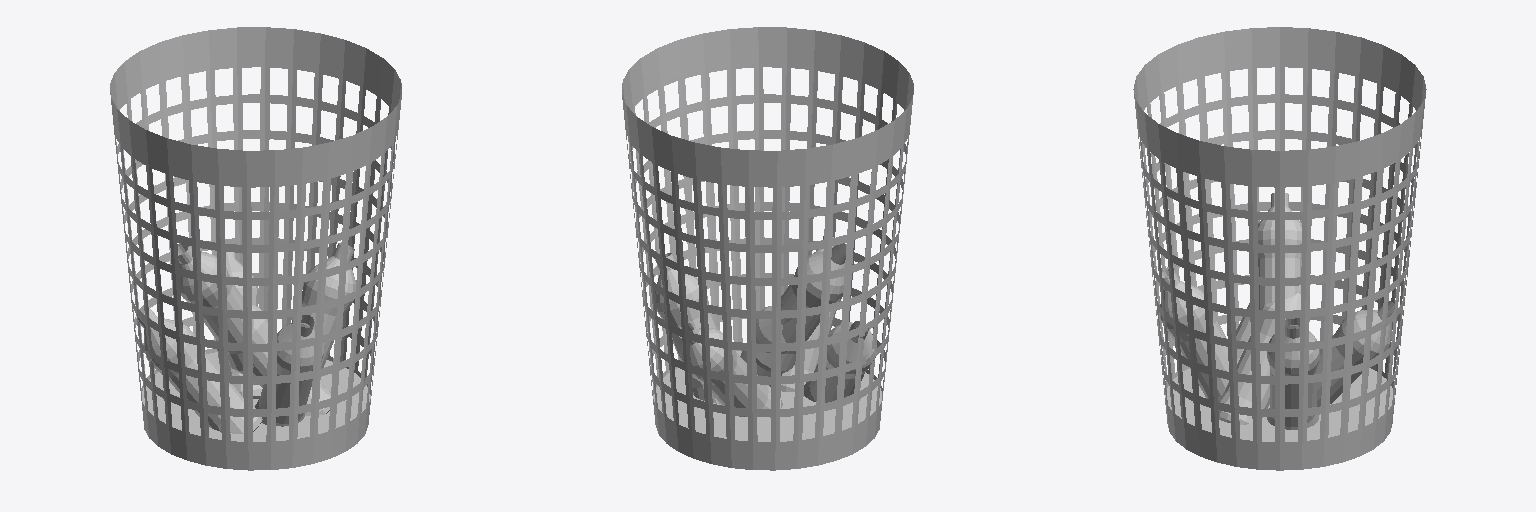
The model's file is DustbinWithCan_000032.obj.
3 views of the same model, side by side, from view 1: azimuth 30°, elevation 25°; view 2: azimuth 150°, elevation 25°; view 3: azimuth 270°, elevation 25° (orthographic).
Visible parts, largest first — view 1: Cylinder, Plane.005, Plane.006, Plane.001, Plane.003, Plane.004, Plane.002; view 2: Cylinder, Plane.006, Plane.002, Plane.005, Plane.003, Plane.001, Plane.004; view 3: Cylinder, Plane.001, Plane.006, Plane.003, Plane.002, Plane.004.
Part boxes in pixels (bbox=[...]): Cylinder: bbox=[110, 27, 401, 470]; Plane.005: bbox=[135, 307, 262, 433]; Plane.006: bbox=[178, 243, 253, 373]; Plane.001: bbox=[255, 315, 323, 426]; Plane.003: bbox=[291, 243, 355, 368]; Plane.004: bbox=[252, 304, 330, 415]; Plane.002: bbox=[216, 252, 262, 398]; Cylinder: bbox=[622, 27, 913, 470]; Plane.006: bbox=[756, 243, 845, 373]; Plane.002: bbox=[679, 323, 782, 416]; Plane.005: bbox=[804, 321, 876, 402]; Plane.003: bbox=[655, 253, 719, 403]; Plane.001: bbox=[770, 236, 842, 391]; Plane.004: bbox=[740, 304, 791, 385]; Cylinder: bbox=[1133, 27, 1426, 470]; Plane.001: bbox=[1160, 269, 1238, 399]; Plane.006: bbox=[1258, 193, 1301, 309]; Plane.003: bbox=[1267, 318, 1319, 429]; Plane.002: bbox=[1317, 301, 1394, 406]; Plane.004: bbox=[1218, 285, 1300, 424].
Bounding box in the file's own units: 2.6 × 3.27 × 2.6.